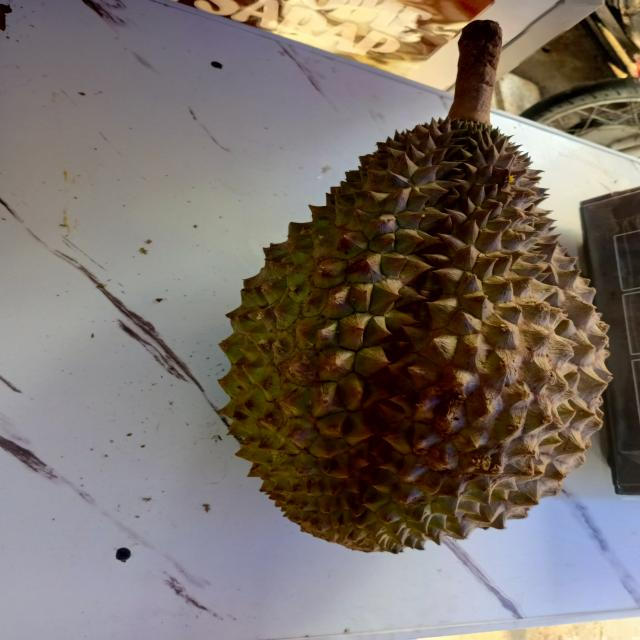mature: (225, 114, 616, 554)
